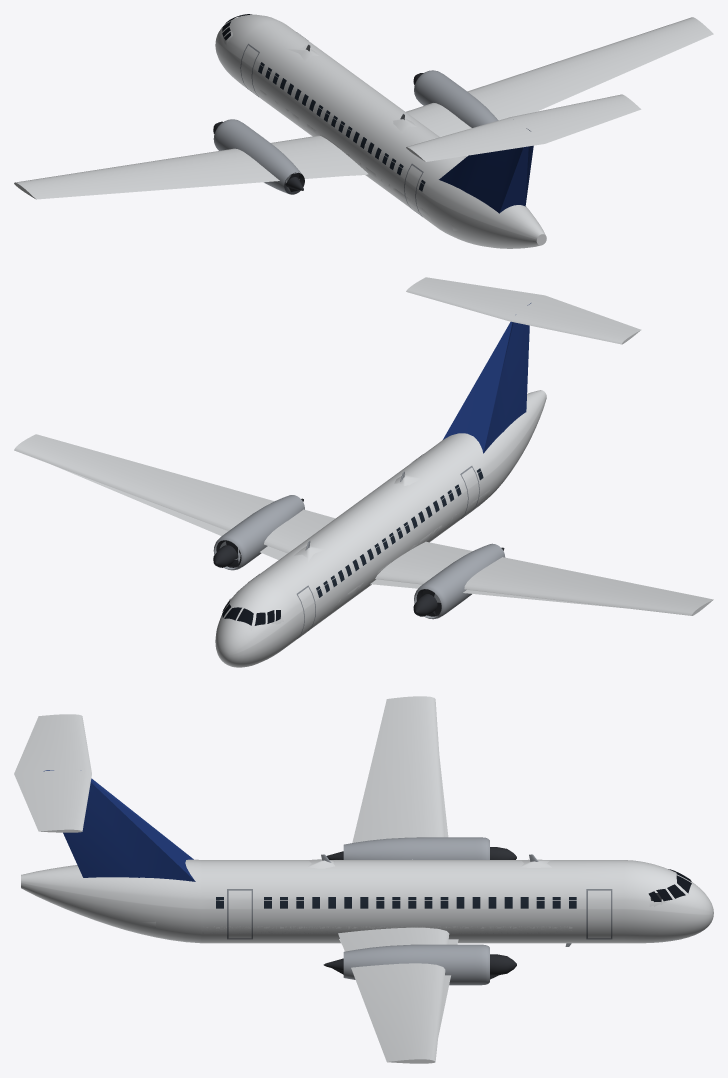
The model's file is lat_twinprop_low.dae.
3 views of the same model, one above another, from view 1: azimuth 30°, elevation 25°; view 2: azimuth 150°, elevation 25°; view 3: azimuth 270°, elevation 25° (orthographic). The views are drawn at different scales.
Visible parts, largest first — view 1: lat_twinprop_low150, lat_twinprop_low1, lat_twinprop_low32; view 2: lat_twinprop_low150, lat_twinprop_low1, lat_twinprop_low32; view 3: lat_twinprop_low150, lat_twinprop_low1, lat_twinprop_low32.
Boxes of the visible parts, x1,y1,x2,y2 form: lat_twinprop_low150: (14, 14, 713, 248); lat_twinprop_low1: (348, 128, 533, 213); lat_twinprop_low32: (223, 19, 541, 244); lat_twinprop_low150: (14, 277, 713, 667); lat_twinprop_low1: (51, 303, 630, 608); lat_twinprop_low32: (216, 310, 519, 630); lat_twinprop_low150: (14, 696, 713, 1063); lat_twinprop_low1: (43, 756, 458, 1036); lat_twinprop_low32: (69, 770, 690, 979).
Bounding box in the file's own units: 17.6 × 14.34 × 3.99.
